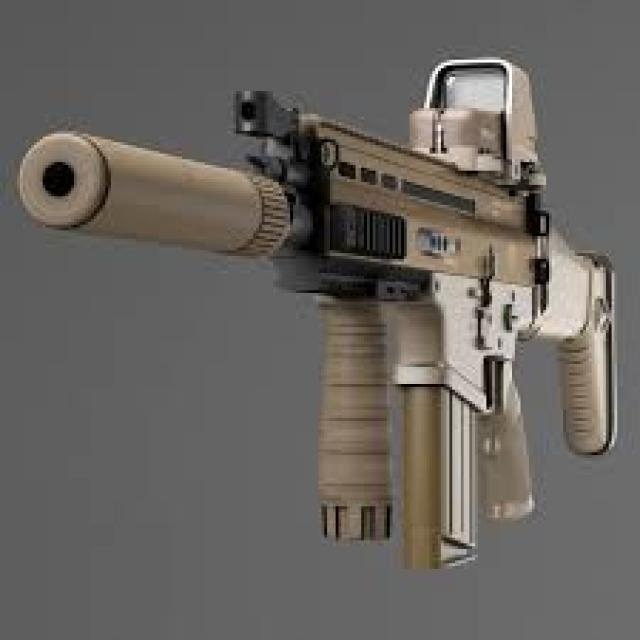Gun: (23, 30, 640, 575)
